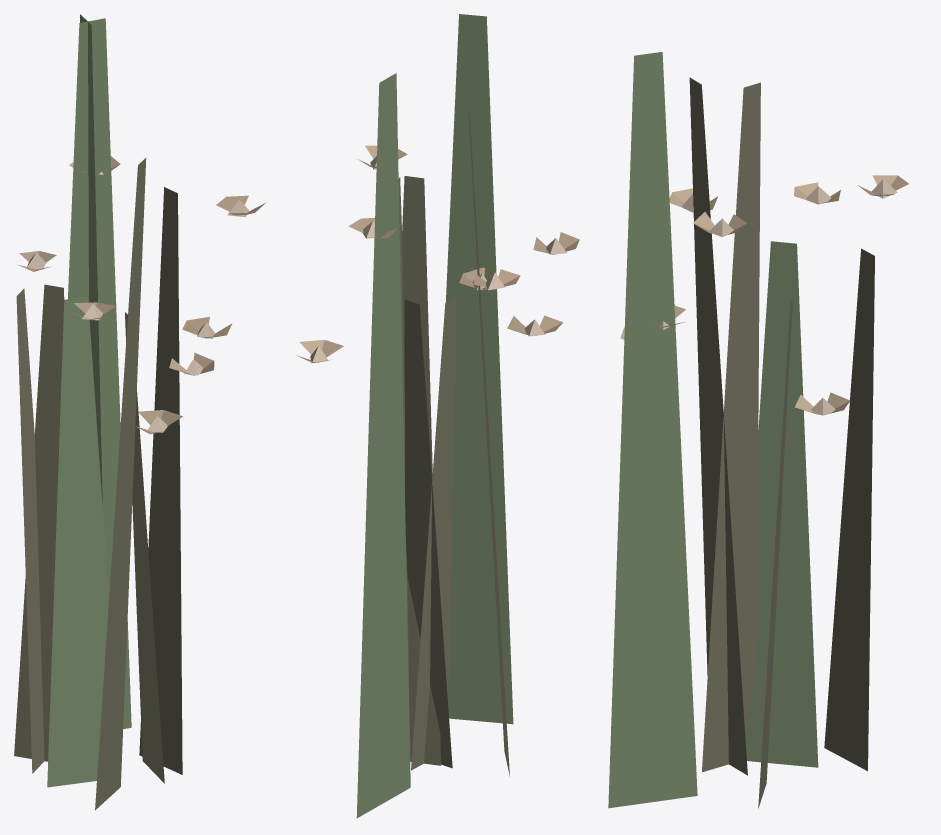
Rendered from shui.pucao@flowering__winter.glb.
The picture shows the model from 3 angles, left to right: view 1: azimuth 30°, elevation 25°; view 2: azimuth 150°, elevation 25°; view 3: azimuth 270°, elevation 25°; orthographic projection. The views are drawn at different scales.
Parts seen in each view (by area): view 1: shui.pucao@flowering__winter; view 2: shui.pucao@flowering__winter; view 3: shui.pucao@flowering__winter.
Boxes of the visible parts, x1,y1,x2,y2 form: shui.pucao@flowering__winter: [14, 14, 266, 810]; shui.pucao@flowering__winter: [296, 14, 579, 818]; shui.pucao@flowering__winter: [608, 52, 908, 808].
Size of the model in its own units: 0.6695 by 2.11 by 0.7877.
